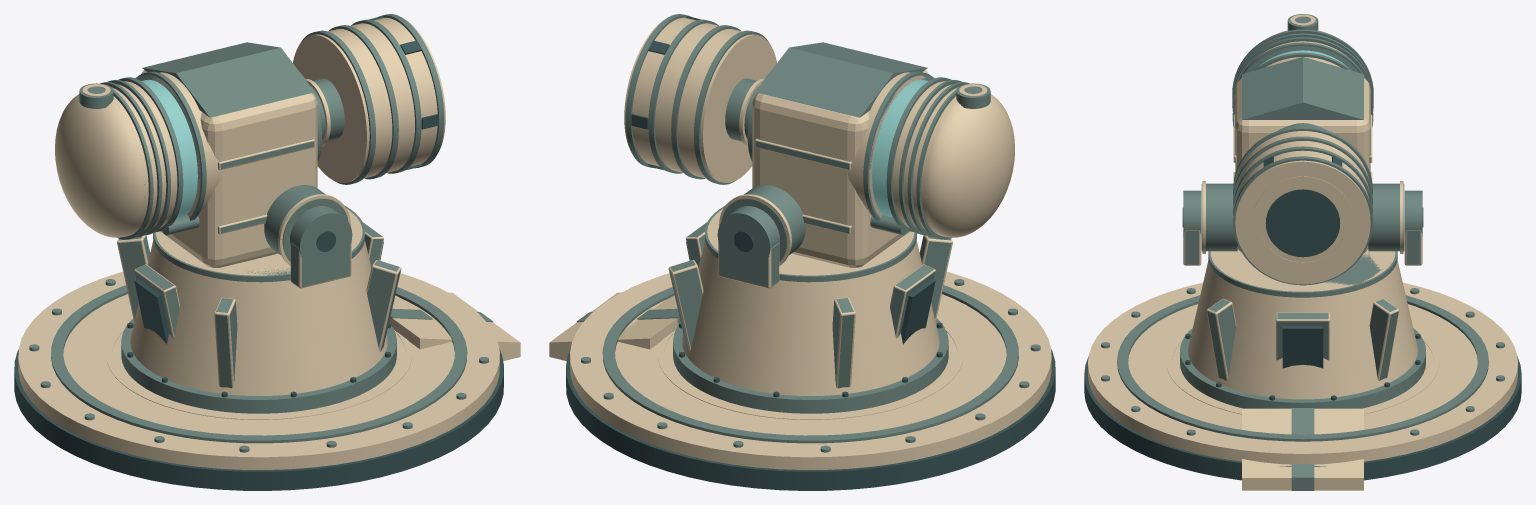
File: Relay_Cannon_v4_T3.glb
3 views of the same model, side by side, from view 1: azimuth 30°, elevation 25°; view 2: azimuth 150°, elevation 25°; view 3: azimuth 270°, elevation 25° (orthographic). The views are drawn at different scales.
Visible parts, largest first — view 1: Relay_Cannon_v4, Head; view 2: Relay_Cannon_v4, Head; view 3: Relay_Cannon_v4, Head.
Part boxes in pixels (x1,y1,x2,y2): Relay_Cannon_v4: (14,205,520,490); Head: (55,14,445,267); Relay_Cannon_v4: (549,205,1055,490); Head: (624,14,1014,267); Relay_Cannon_v4: (1084,190,1521,490); Head: (1201,14,1404,285).
Bounding box in the file's own units: 10.06 × 7.36 × 9.7.
